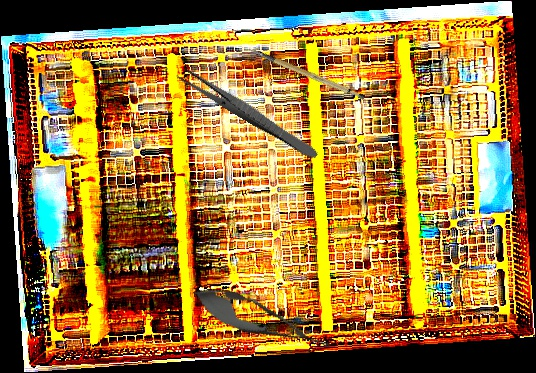Dressing Forceps: (174, 64, 322, 162)
Micro Scissor: (186, 276, 338, 364)
Scalpel Handle: (249, 31, 367, 114)
